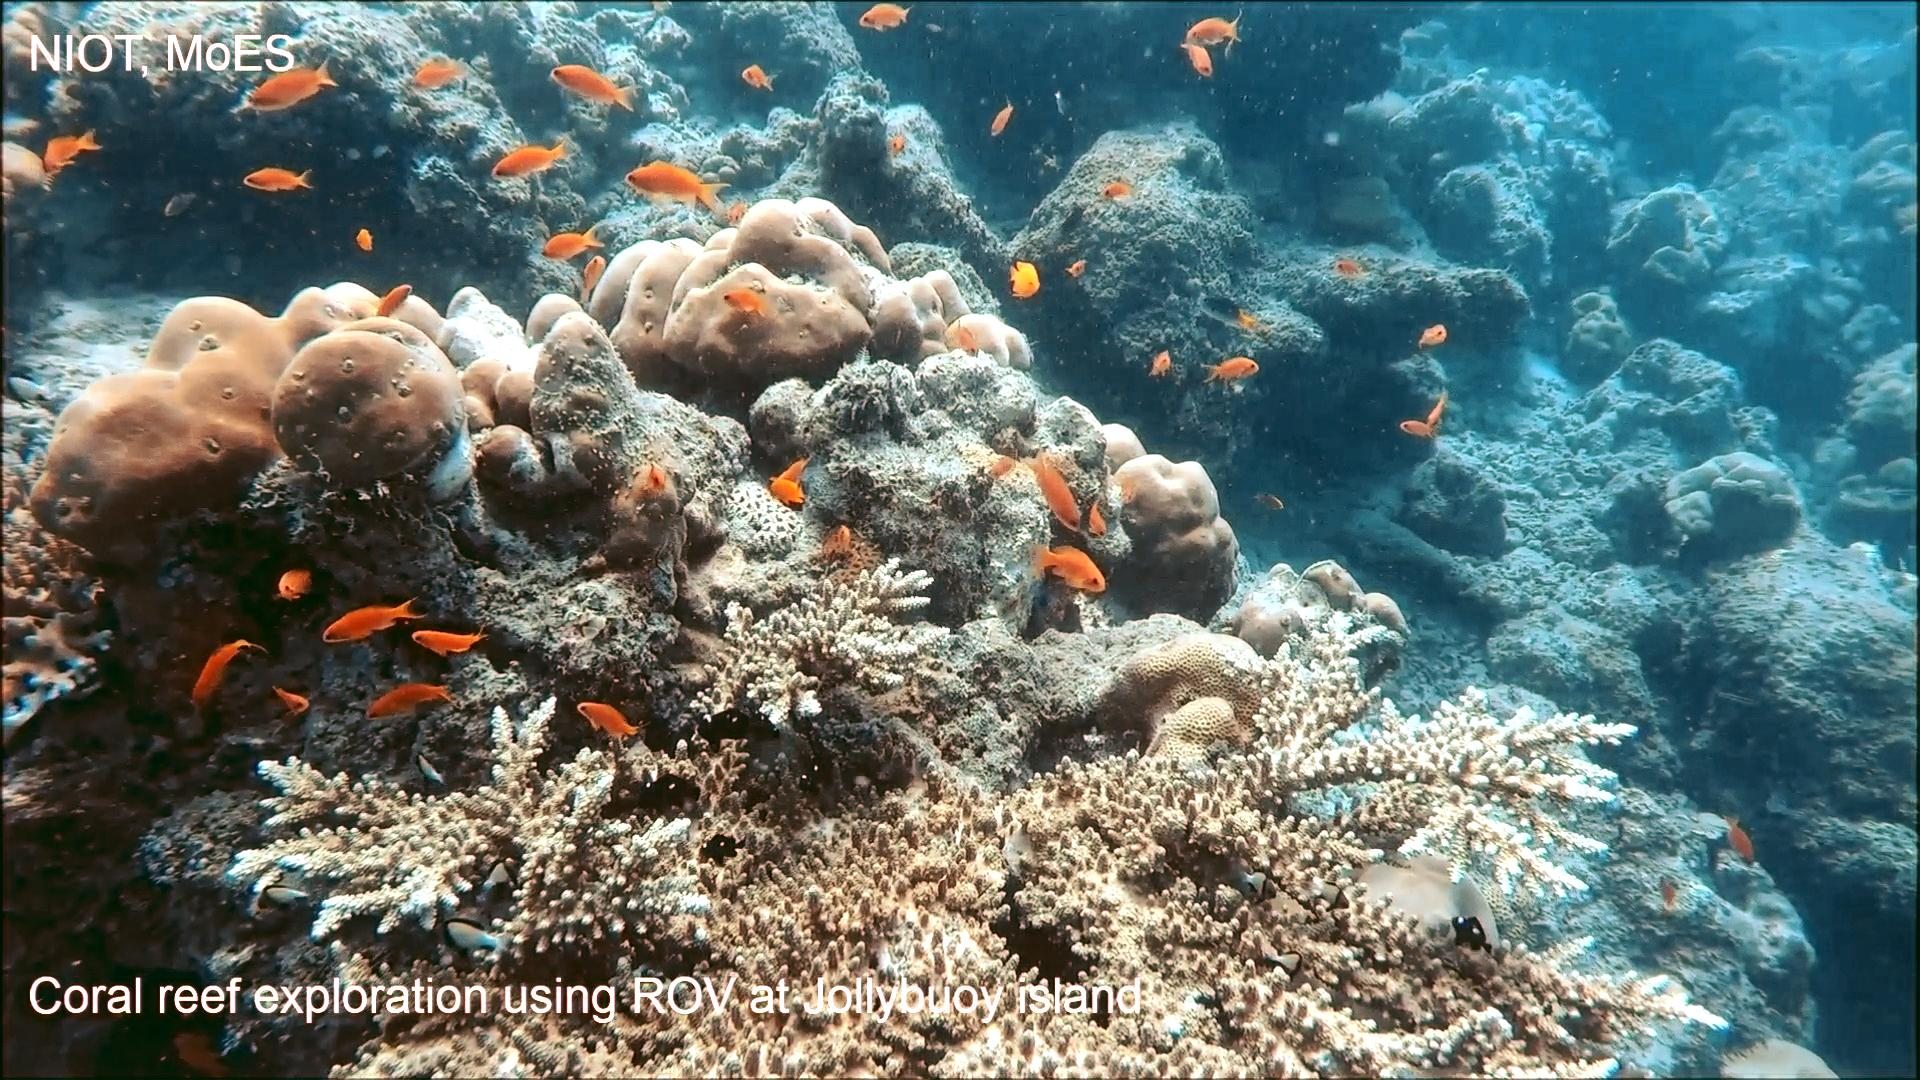Porites-Porites pukoensis: (26, 274, 471, 587), (554, 189, 1043, 389)
